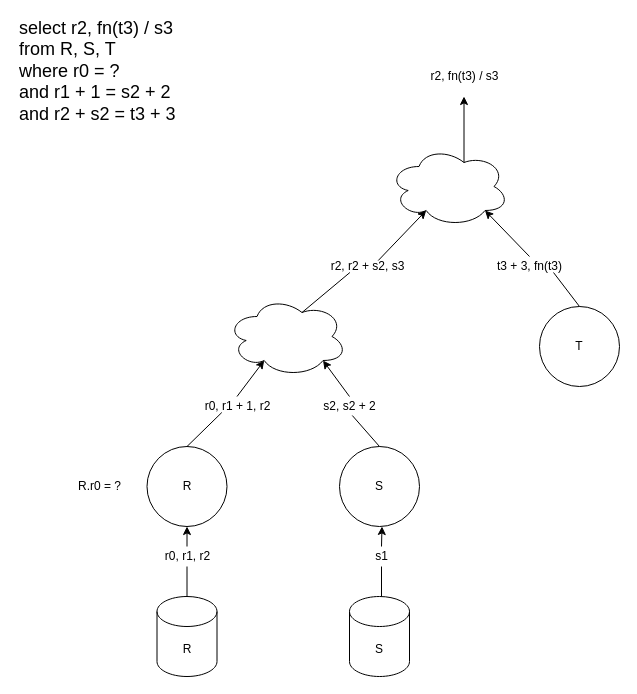
The diagram is 637 pixels wide and 694 high, and some of its shapes have lost their labels. The shapes that lost their labels are listed below. From the top down, each one's centre as x and y in pixels, then its label:
At [448,186]: "r2 + s2 = t3 + 3".
At [286,336]: "r1 + 1 = s2 + 2".
